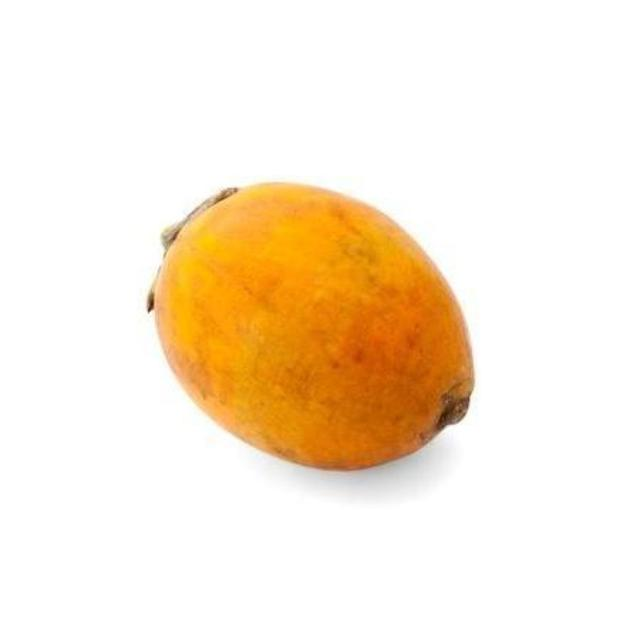good: (151, 182, 478, 474)
